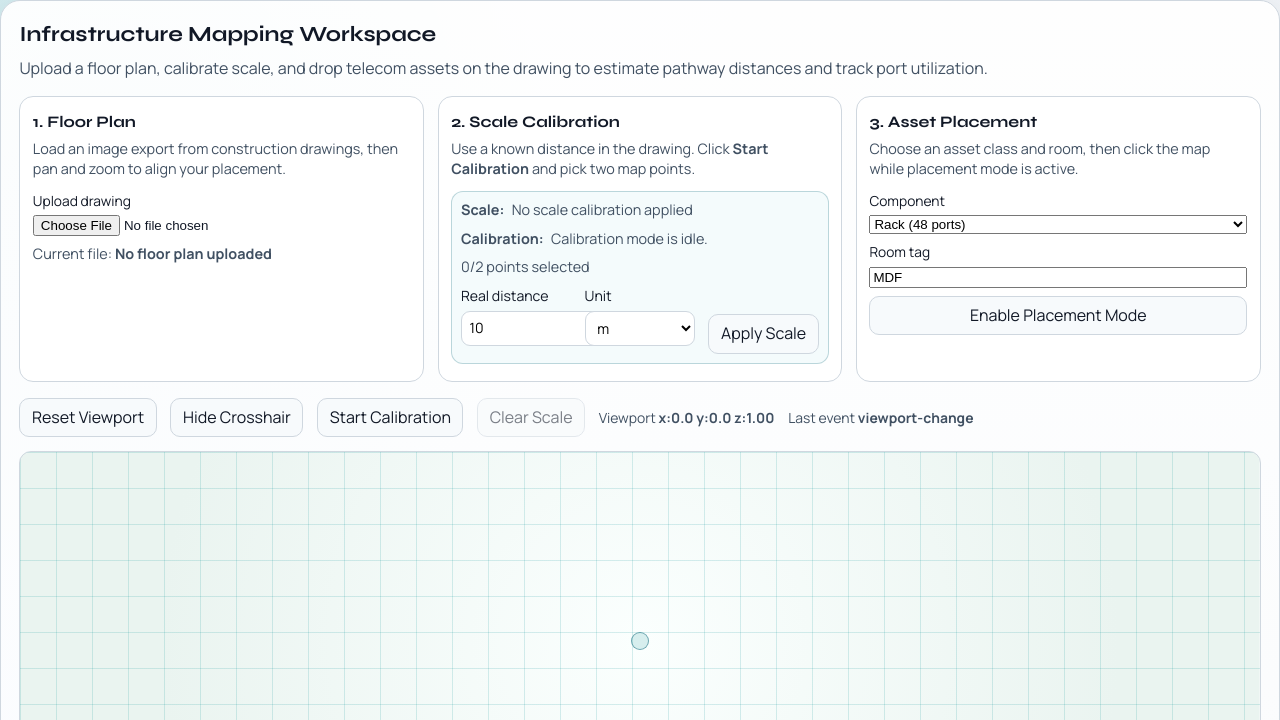
Test: MapSandboxPage › toggles crosshair button state
This screenshot has width=1280, height=720.
What coordinates should you click on to do the following:
click the button "Hide Crosshair"
I would click on:
 (237, 418)
Its box is 170,398 -> 303,438.
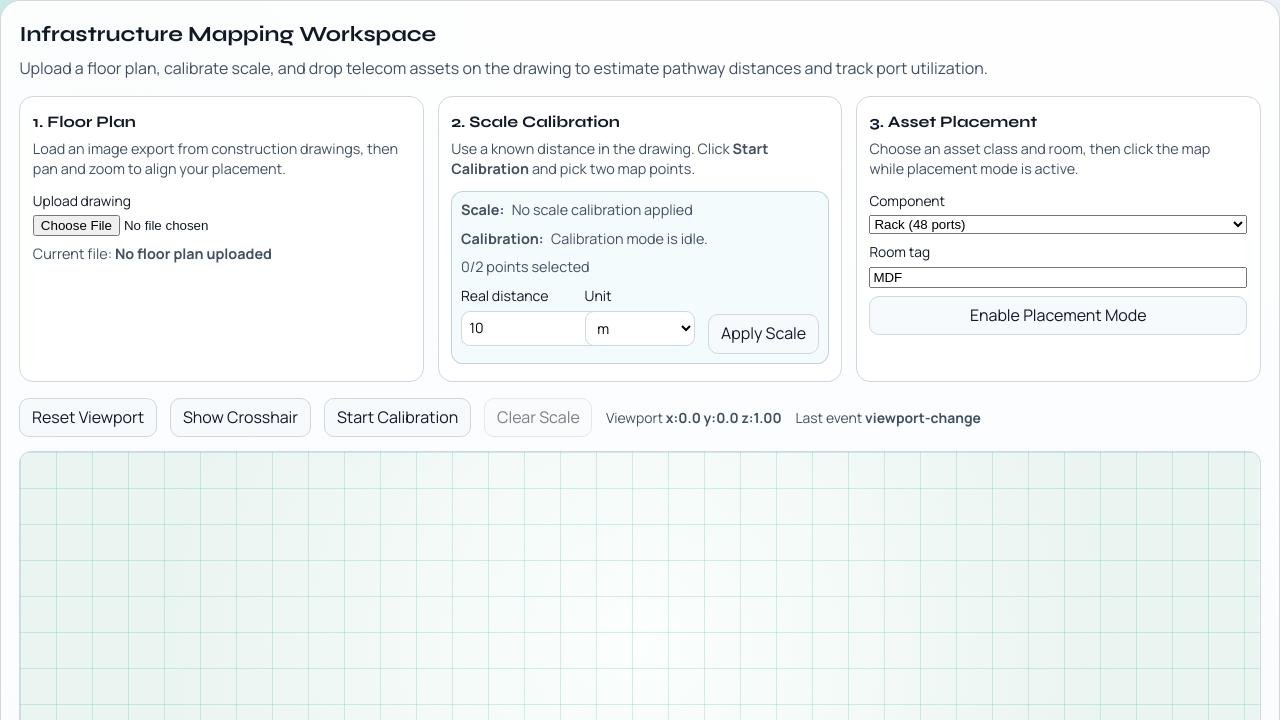
Check: the button "Show Crosshair" is shown
What coordinates should you click on to do the following:
click the button "Show Crosshair"
I would click on:
 (241, 418)
Its box is 170,398 -> 311,438.
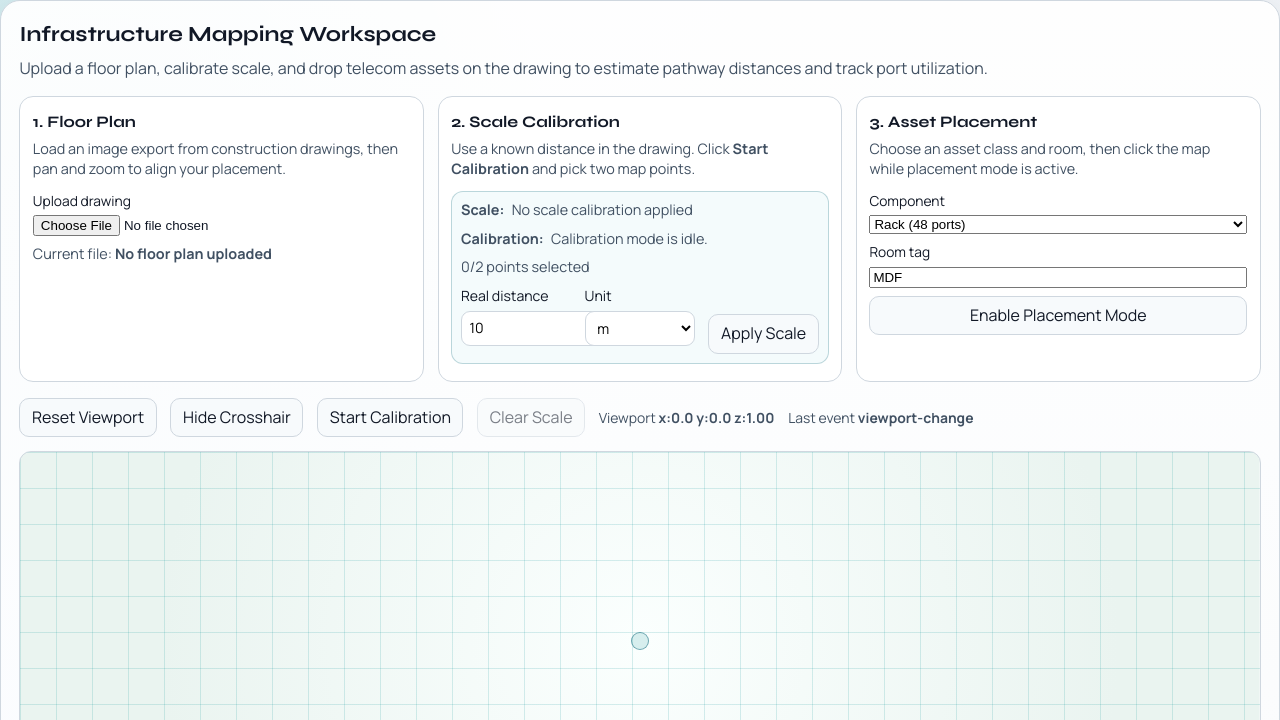
Check: the button "Hide Crosshair" is shown, box 170,398 -> 303,438
